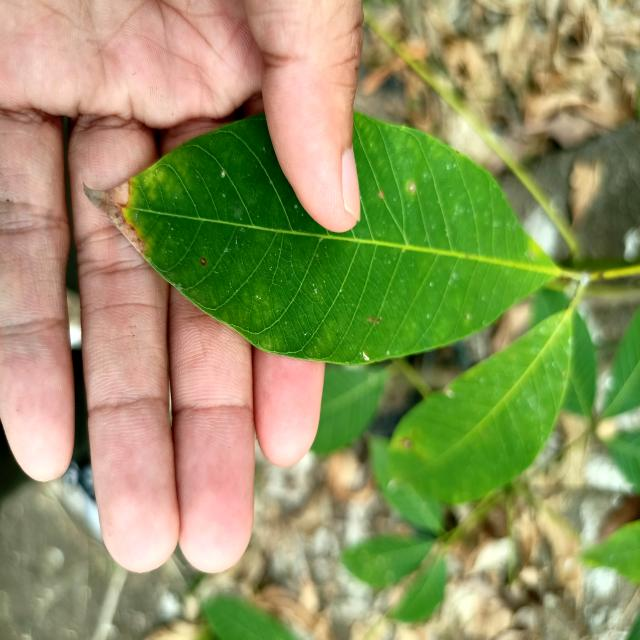Colletotrichum: (200, 258, 207, 266)
Leaf-Blight: (83, 181, 145, 256)
